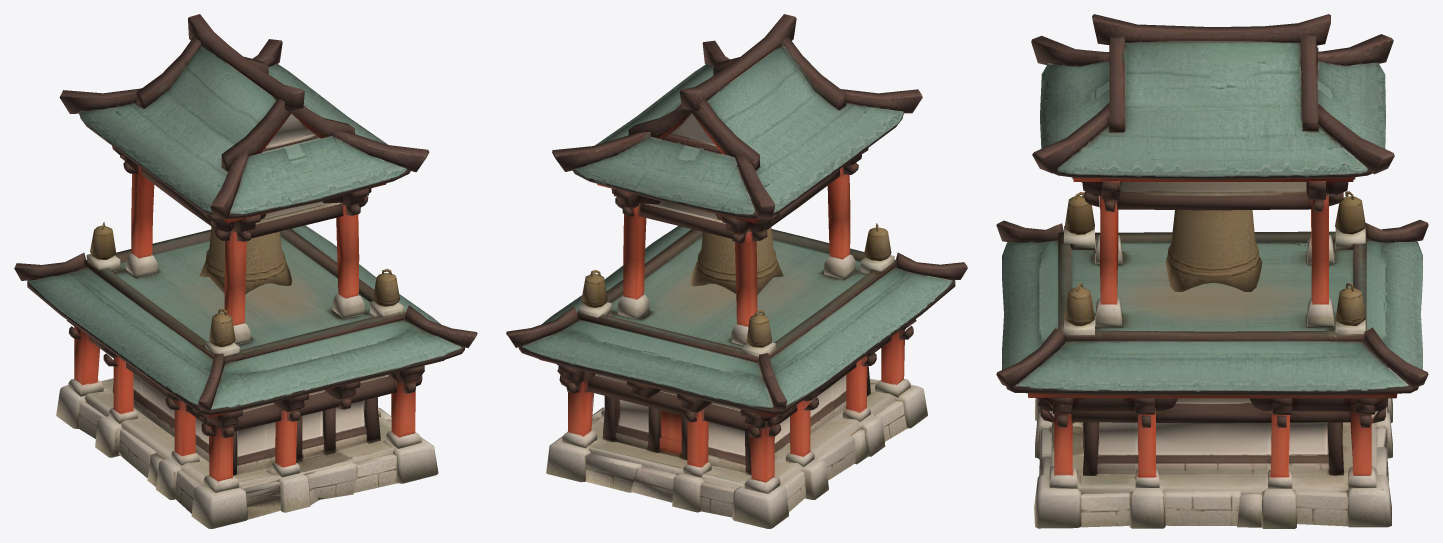
Rendered from tripo_convert_49cb1683-06d2-4680-8f6d-22a280ffcf50.fbx.
The picture shows the model from 3 angles, left to right: view 1: azimuth 30°, elevation 25°; view 2: azimuth 150°, elevation 25°; view 3: azimuth 270°, elevation 25°; orthographic projection. The views are drawn at different scales.
Parts seen in each view (by area): view 1: tripo_node_49cb1683; view 2: tripo_node_49cb1683; view 3: tripo_node_49cb1683.
Part boxes in pixels (x1=…): tripo_node_49cb1683: x1=14, y1=14, x2=477, y2=528; tripo_node_49cb1683: x1=506, y1=14, x2=967, y2=528; tripo_node_49cb1683: x1=996, y1=14, x2=1428, y2=528.
Bounding box in the file's own units: 0.748 × 0.998 × 0.873.
Materials: 1 (1 with a texture image).
